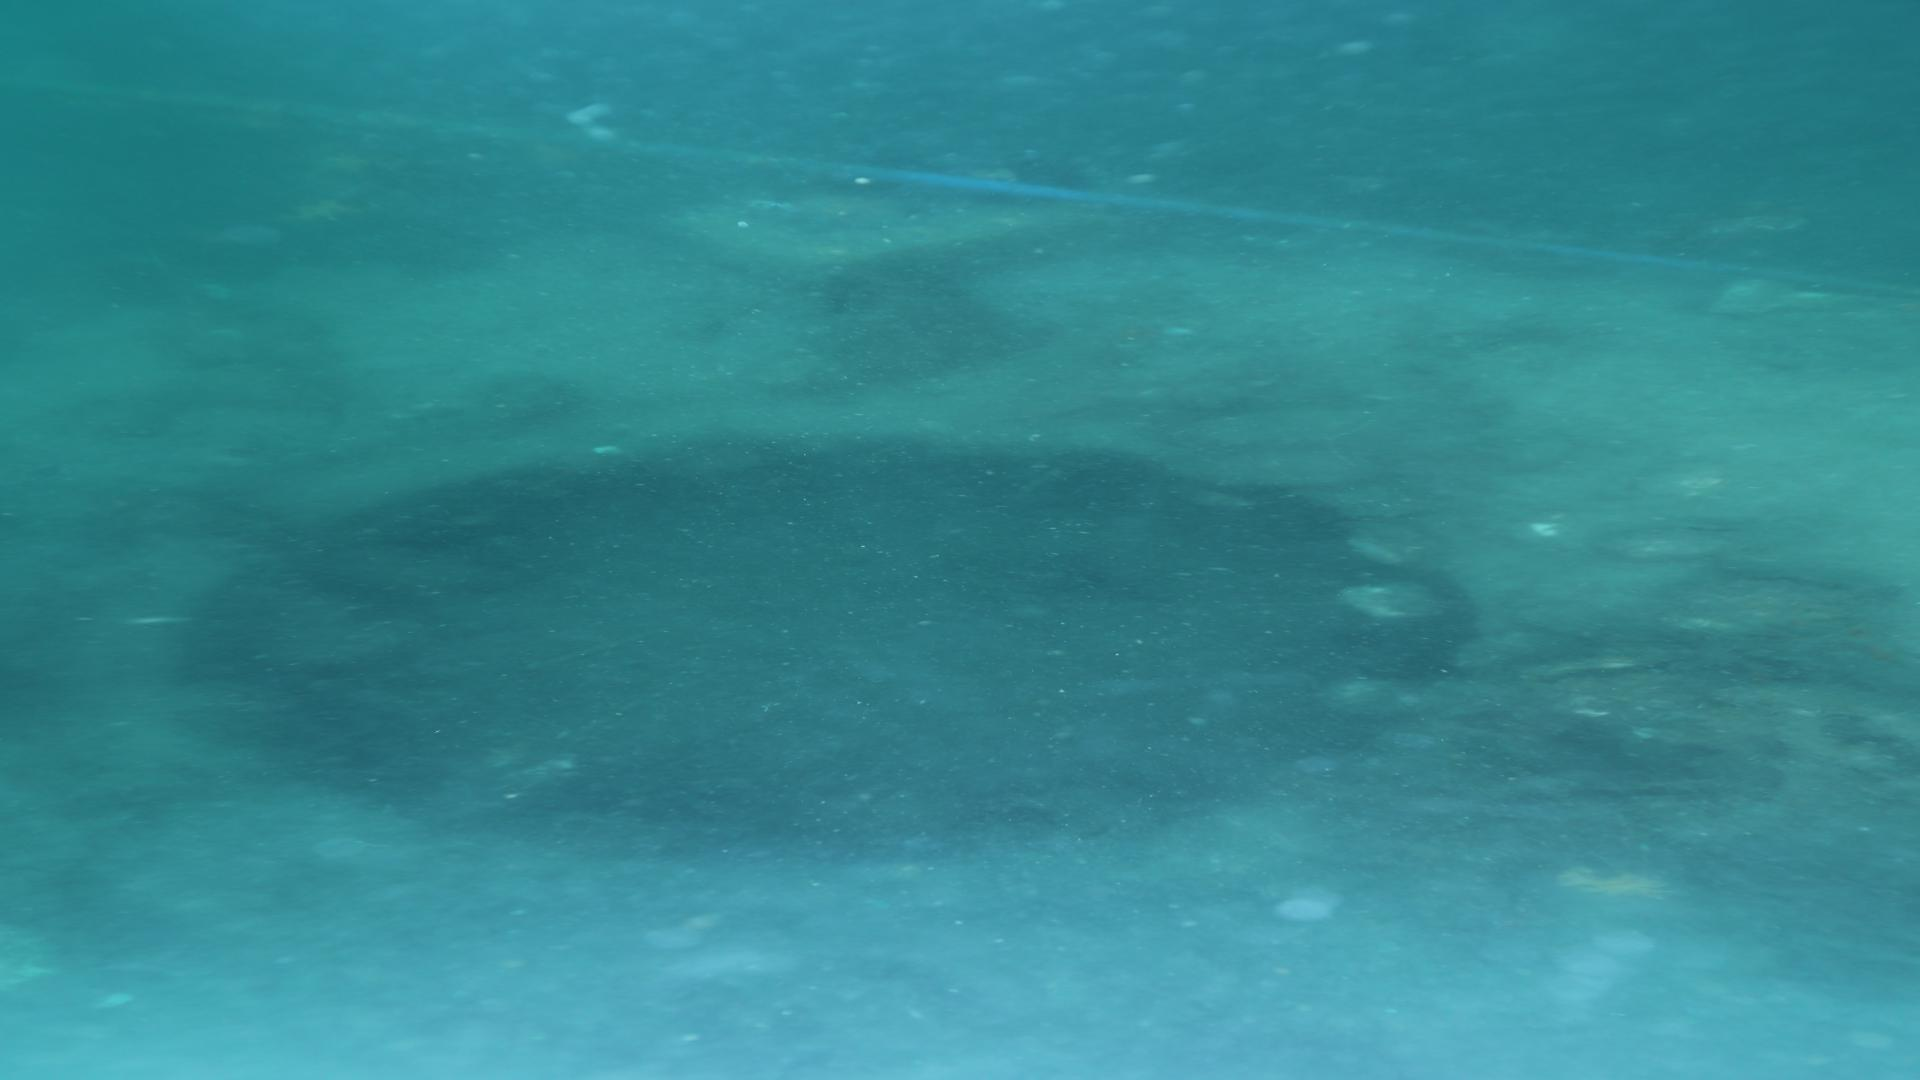tire: (3, 193, 1920, 1080)
